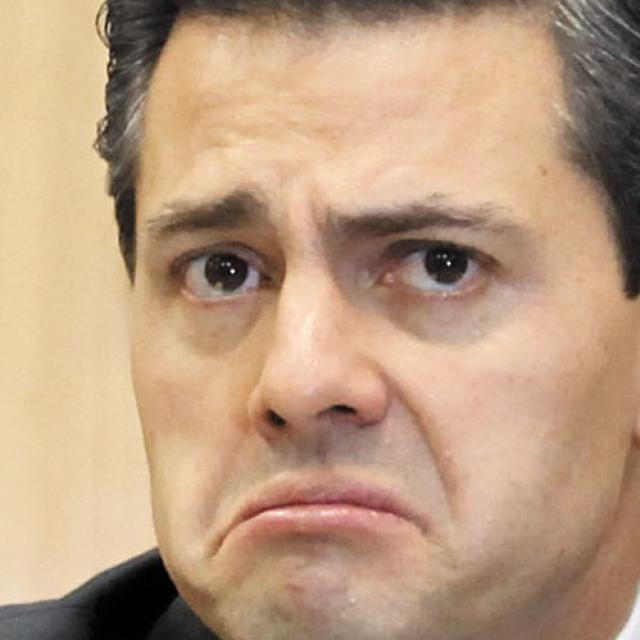Depress: (130, 11, 638, 639)
